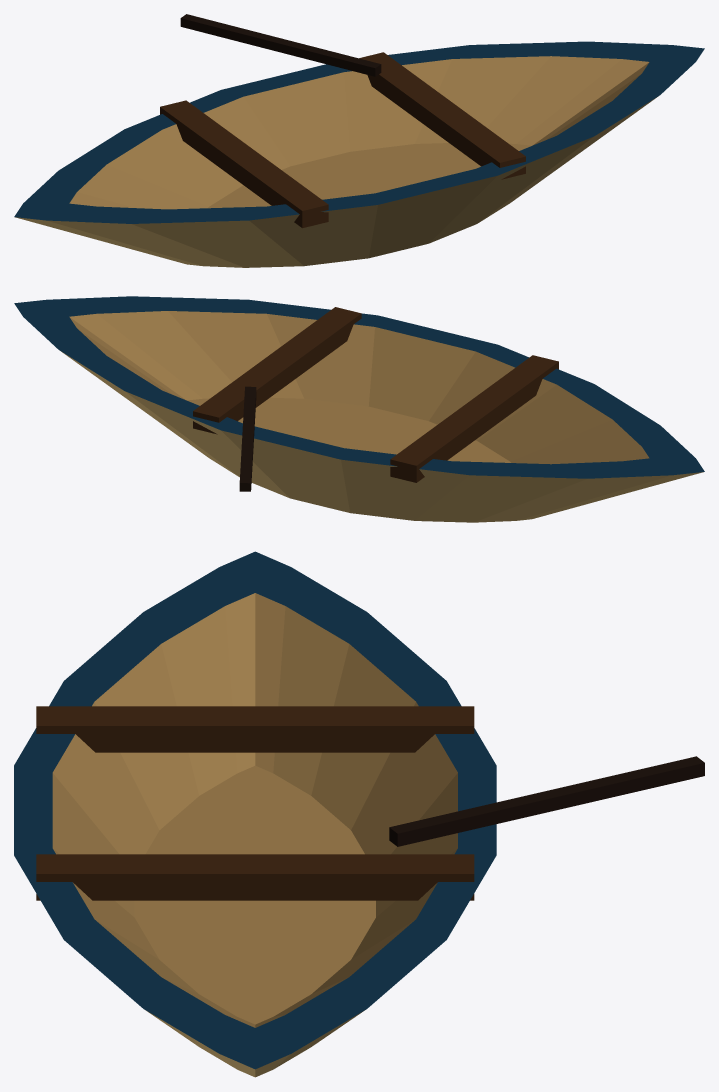
The model's file is coast-boat-b.glb.
3 renders of one model, top to bottom at view 1: azimuth 30°, elevation 25°; view 2: azimuth 150°, elevation 25°; view 3: azimuth 270°, elevation 25°, orthographic. The views are drawn at different scales.
Visible parts, largest first — view 1: boat-b; view 2: boat-b; view 3: boat-b.
Part boxes in pixels (<box>): boat-b: <box>14,14,704,267</box>; boat-b: <box>14,296,704,522</box>; boat-b: <box>14,551,704,1077</box>.
Bounding box in the file's own units: 4.2 × 0.625 × 2.37.
